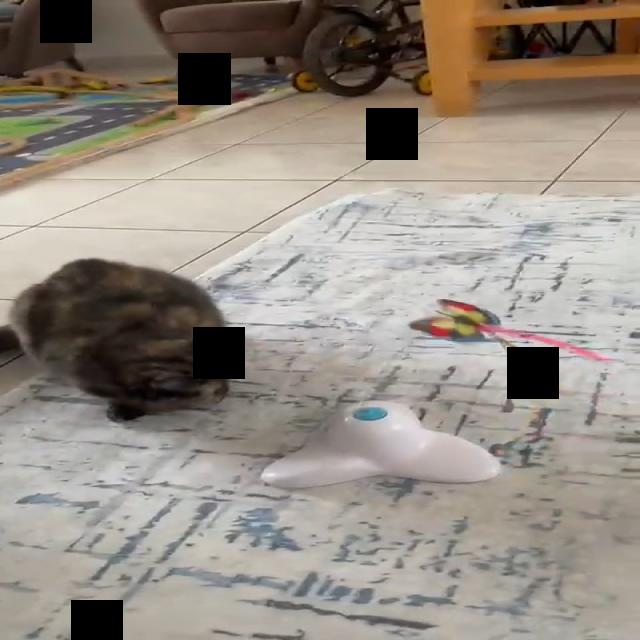authorized: (5, 256, 234, 422)
